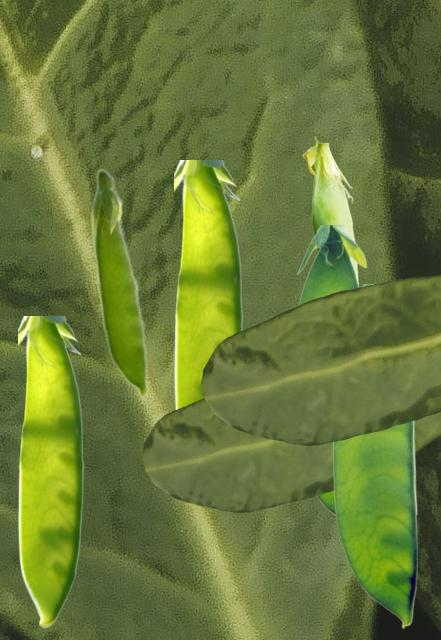pea: (332, 284, 416, 627), (296, 225, 367, 515), (18, 316, 83, 627), (174, 160, 242, 408), (90, 167, 149, 401), (302, 136, 357, 276)
